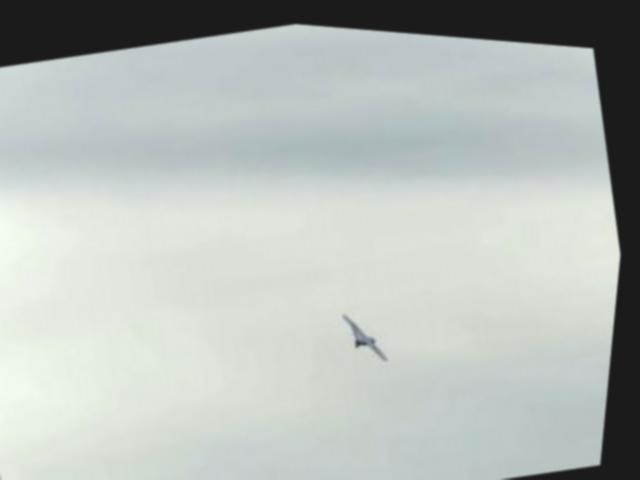uav: (336, 286, 406, 368)
